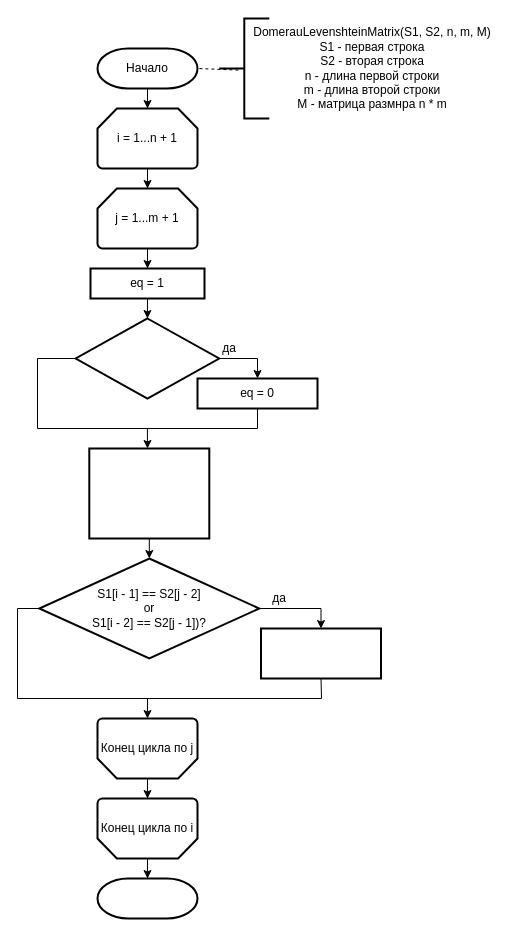
This 515x936 diagram has some shape labels left out. The centre of each missing label's shape, as x and y in pixels:
M[ i ][ j ] = min ( M[ i ][ j ] , M[ i - 2][ j - 2] +1): [321,653]
M[ i ][ j ] = min( M[i - 1][ j ] + 1, M[ i ][j - 1] + 1, M[i - 1][j - 1] + eq): [149,493]
S1[n - 1] == S2[m - 1]?: [147,358]
Конец: [147,898]
